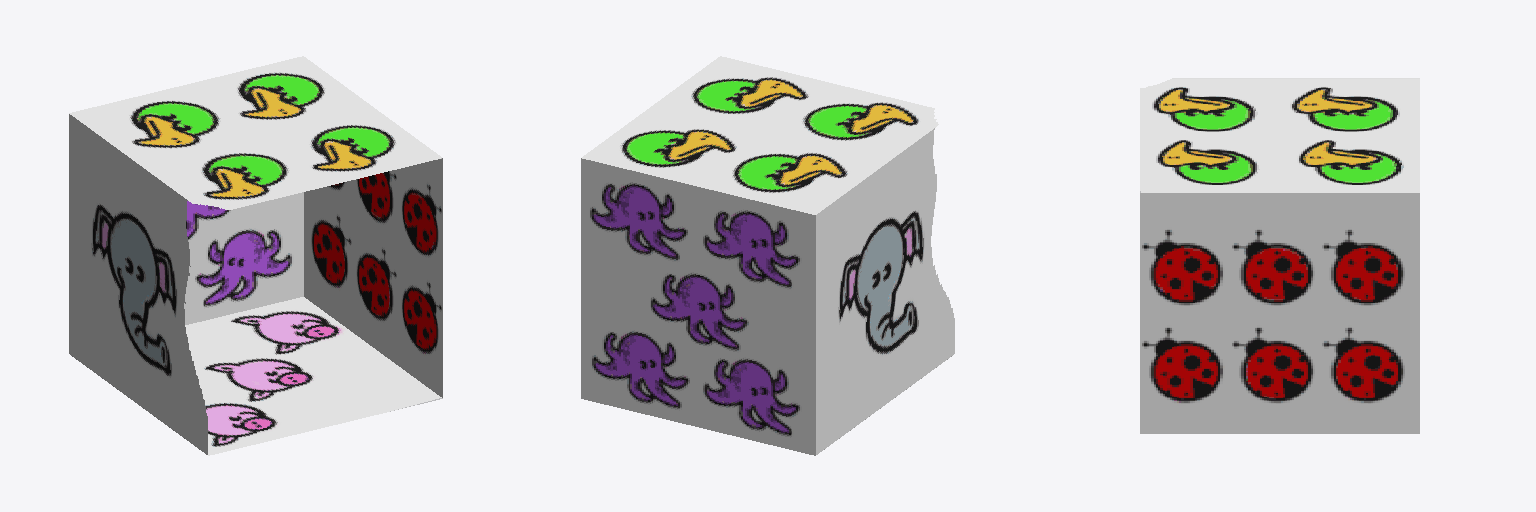
3 renders of one model, left to right at view 1: azimuth 30°, elevation 25°; view 2: azimuth 150°, elevation 25°; view 3: azimuth 270°, elevation 25°, orthographic.
Visible parts, largest first — view 1: Box001; view 2: Box001; view 3: Box001.
Part boxes in pixels (x1,y1,x2,y2): Box001: (69,56,442,455); Box001: (581,56,954,455); Box001: (1140,78,1419,433).
Bounding box in the file's own units: 19.8 × 19.39 × 20.38.
1 materials, 1 textured.